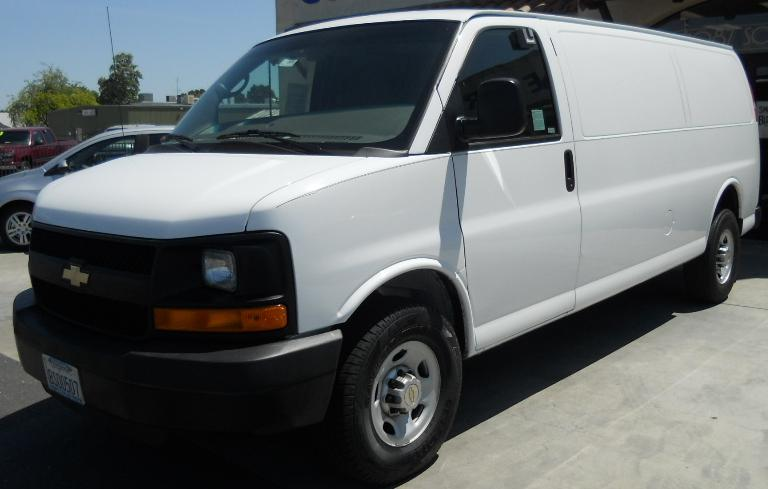front_view: (4, 190, 337, 441)
headlight: (132, 223, 311, 350)
side_glass: (447, 24, 566, 165)
